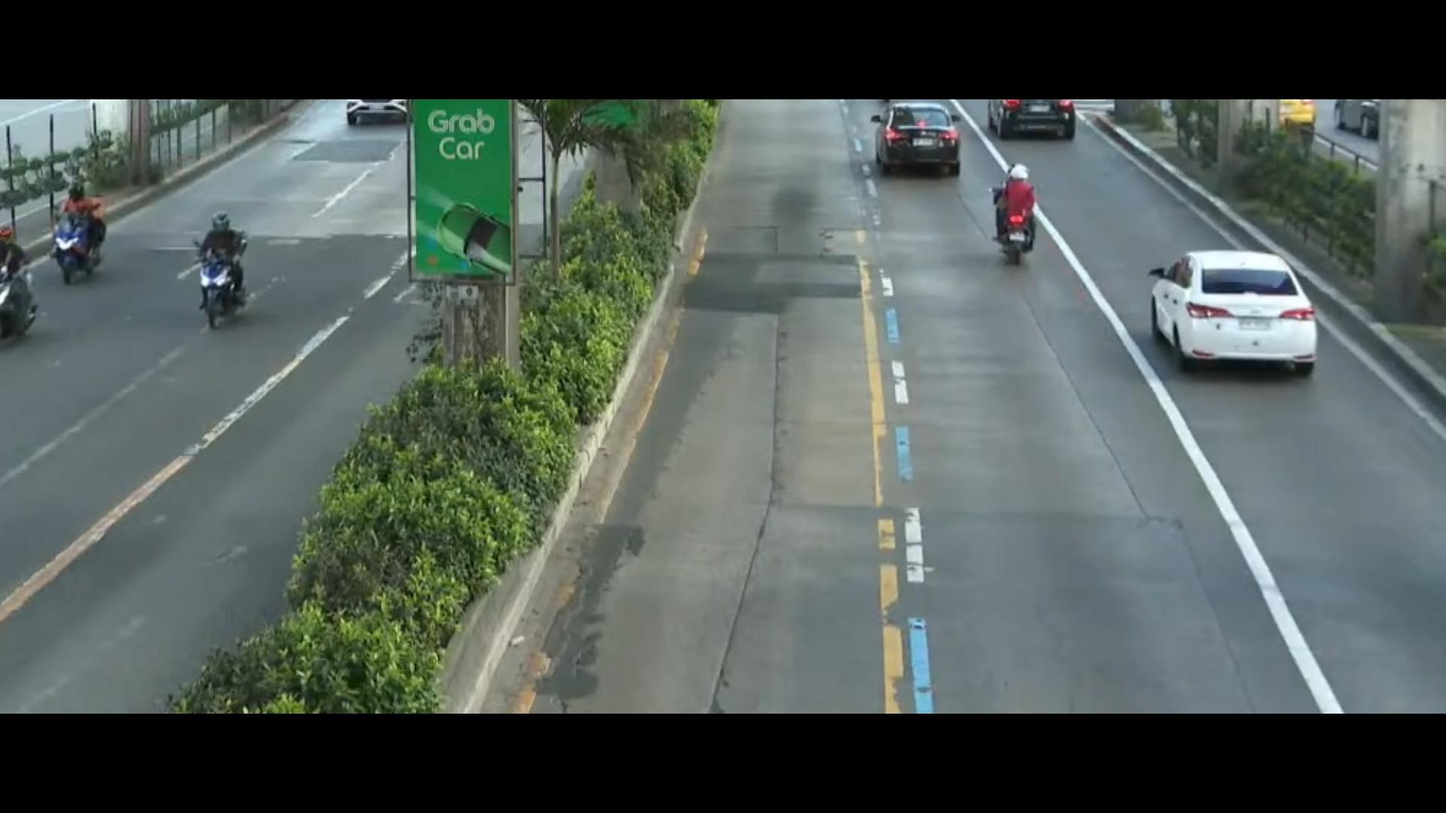Motorcycle: (169, 186, 274, 344), (959, 144, 1078, 266), (57, 154, 131, 286), (0, 224, 53, 334)
Sedan: (1132, 224, 1336, 416), (863, 97, 999, 188)
